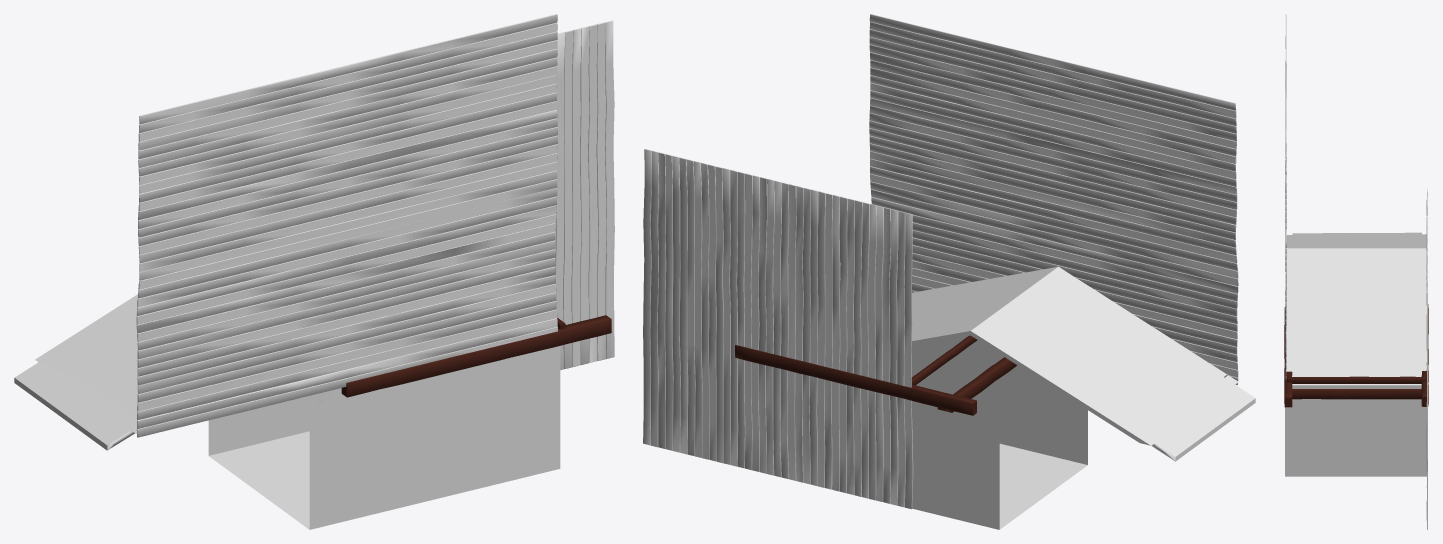
File: Blockers_mdl.fbx
3 renders of one model, left to right at view 1: azimuth 30°, elevation 25°; view 2: azimuth 150°, elevation 25°; view 3: azimuth 270°, elevation 25°, orthographic. The views are drawn at different scales.
Visible parts, largest first — view 1: Cube.010, Cube.012, Cube.021, Cube.099, Cube.013; view 2: Cube.010, Cube.021, Cube.099, Cube.012, Cube.015, Cube.018, Cube.016; view 3: Cube.099, Cube.012, Cube.019, Cube.017, Cube.010, Cube.021, Cube.013, Cube.015.
Part boxes in pixels (x1,y1,x2,y2): Cube.010: (136, 14, 557, 437); Cube.012: (208, 346, 560, 529); Cube.021: (317, 20, 614, 404); Cube.099: (14, 294, 524, 450); Cube.013: (341, 315, 611, 397); Cube.010: (869, 14, 1238, 384); Cube.021: (643, 149, 913, 509); Cube.099: (912, 266, 1255, 461); Cube.012: (825, 336, 1087, 529); Cube.015: (735, 345, 976, 415); Cube.018: (937, 357, 1017, 412); Cube.016: (911, 335, 977, 385); Cube.099: (1286, 232, 1426, 388); Cube.012: (1285, 399, 1426, 476); Cube.019: (1292, 389, 1421, 399); Cube.017: (1287, 376, 1426, 383); Cube.010: (1285, 14, 1286, 378); Cube.021: (1426, 188, 1427, 529); Cube.013: (1284, 307, 1292, 407); Cube.015: (1421, 304, 1428, 406).
Size of the model in its own units: 1377 by 991 by 407.
